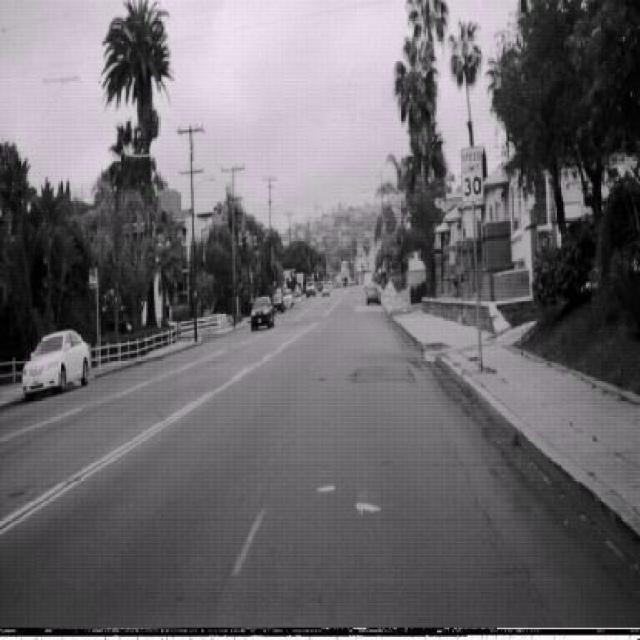speedLimit30: (460, 144, 485, 203)
